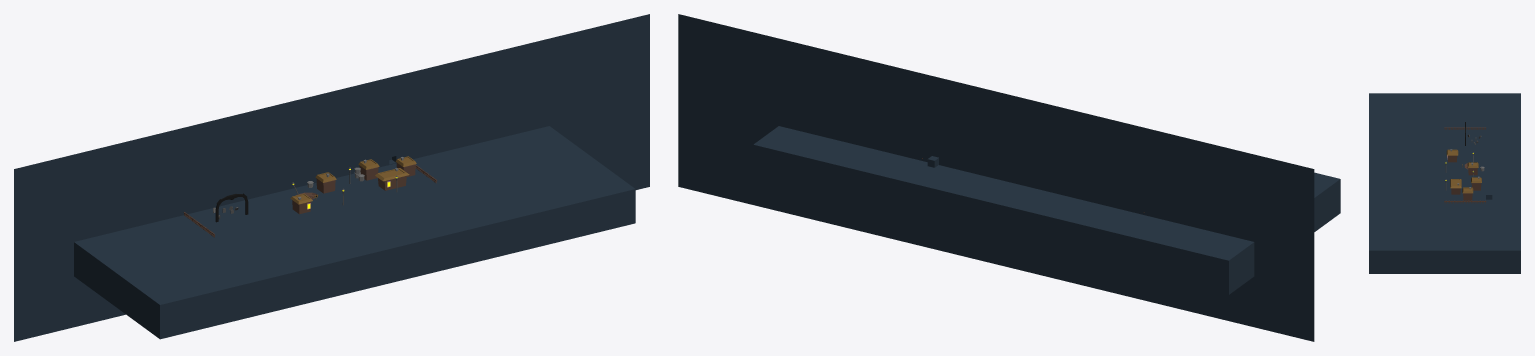
The model's file is Level for the millionth time V2 (4).glb.
3 views of the same model, side by side, from view 1: azimuth 30°, elevation 25°; view 2: azimuth 150°, elevation 25°; view 3: azimuth 270°, elevation 25° (orthographic). The views are drawn at different scales.
Visible parts, largest first — view 1: Plane_col, Cube_col; view 2: Plane_col, Cube_col; view 3: Cube_col.
Boxes of the visible parts, x1,y1,x2,y2 form: Plane_col: (14,14,649,341); Cube_col: (74,126,635,339); Plane_col: (678,14,1314,341); Cube_col: (753,126,1340,294); Cube_col: (1369,93,1520,273).
Size of what is drawn, in the model's own units: 310 by 80.39 by 94.2.
